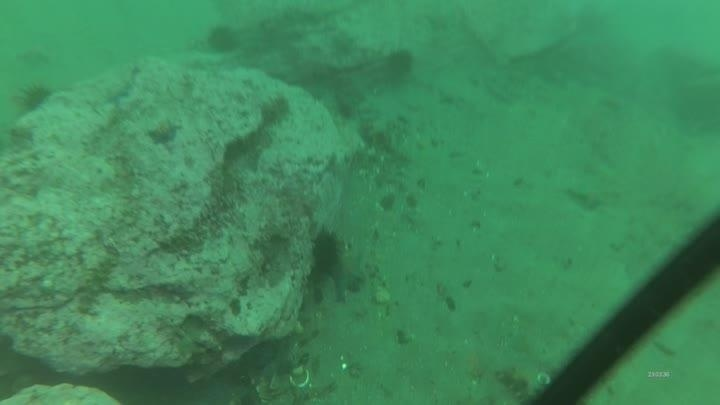echinus: (308, 228, 344, 278), (381, 47, 417, 83), (16, 81, 54, 115), (204, 23, 241, 57)
holothurian: (71, 245, 119, 317), (492, 363, 539, 404)
starfish: (328, 247, 368, 300), (144, 117, 183, 147)
